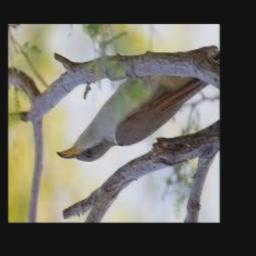Cuckoo: (58, 71, 211, 162)
